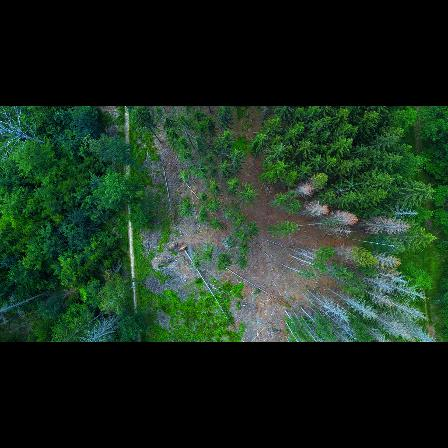Dead: (0, 109, 48, 147), (79, 308, 122, 341), (332, 290, 378, 320), (311, 293, 350, 320), (385, 299, 430, 322), (374, 313, 412, 339), (320, 309, 355, 337), (395, 318, 434, 341), (365, 219, 413, 234), (360, 287, 396, 307), (327, 206, 360, 227), (370, 251, 402, 269), (386, 286, 427, 299), (359, 276, 392, 292), (390, 204, 422, 220), (372, 270, 411, 283), (302, 200, 330, 218), (293, 181, 316, 196)
